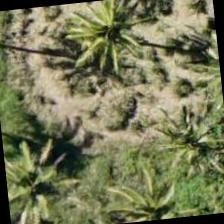Kelapa_Sawit: (133, 96, 223, 196), (60, 0, 159, 84), (1, 121, 76, 217), (106, 157, 203, 223)
